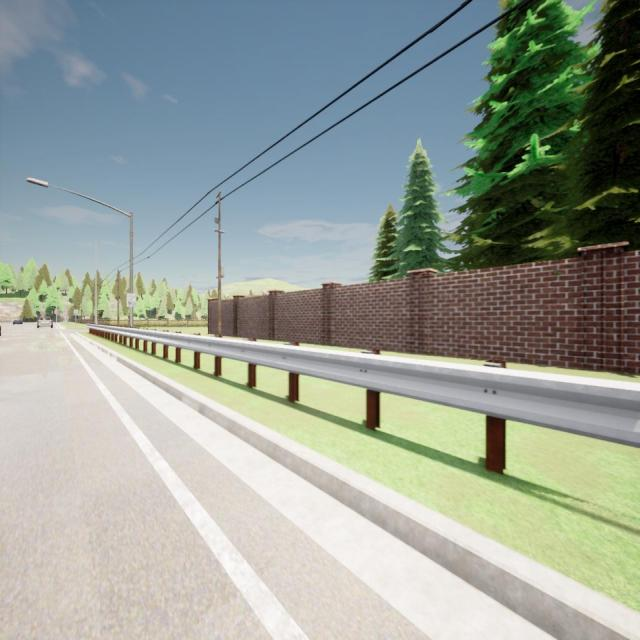Traffic_Signs: (126, 293, 136, 307), (74, 309, 78, 315)
Vehicle: (37, 316, 53, 329), (13, 319, 23, 325)
